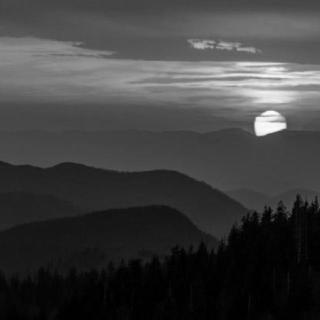other: (210, 56, 306, 144)
